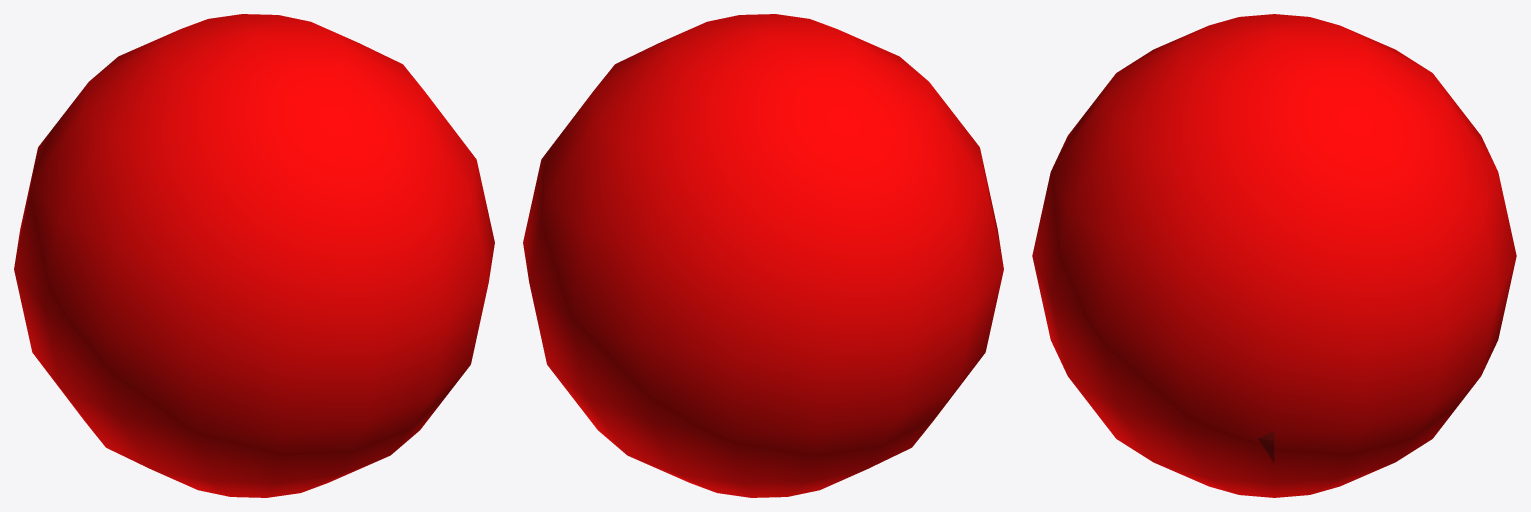
Rendered from map2.fbx.
3 renders of one model, left to right at view 1: azimuth 30°, elevation 25°; view 2: azimuth 150°, elevation 25°; view 3: azimuth 270°, elevation 25°, orthographic.
Parts seen in each view (by area): view 1: Sphere; view 2: Sphere; view 3: Sphere.
Boxes of the visible parts, box(x1,y1,x2,y2) form: Sphere: box(14, 14, 494, 497); Sphere: box(523, 14, 1003, 497); Sphere: box(1032, 14, 1516, 497).
Size of the model in its own units: 148500 by 148500 by 148500.
4 materials, 2 textured.
